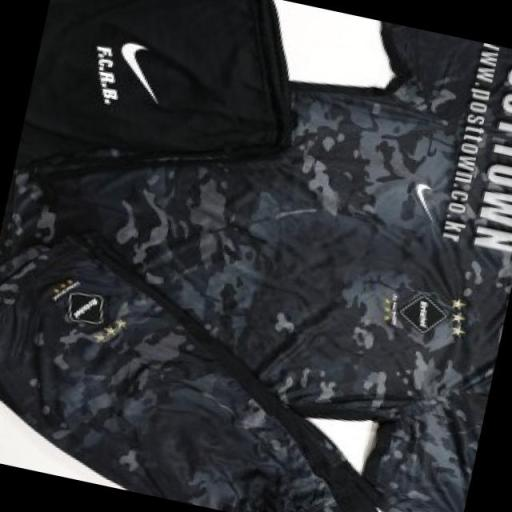Nike: (402, 176, 447, 226)
